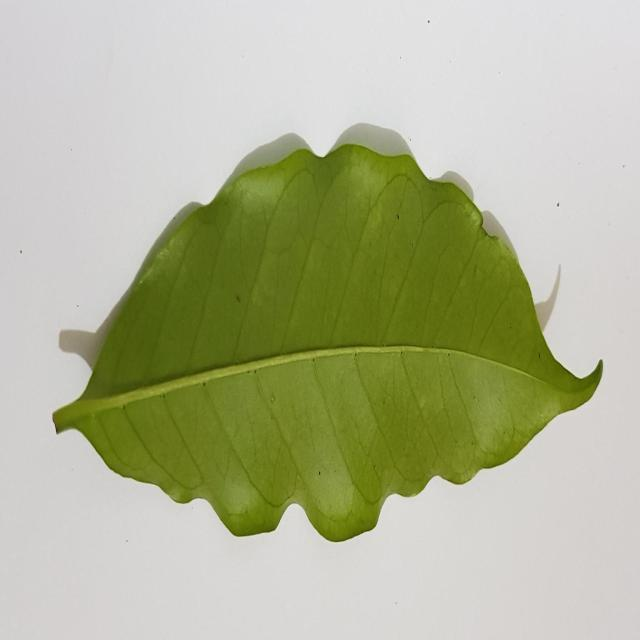nodisease: (53, 124, 603, 541)
